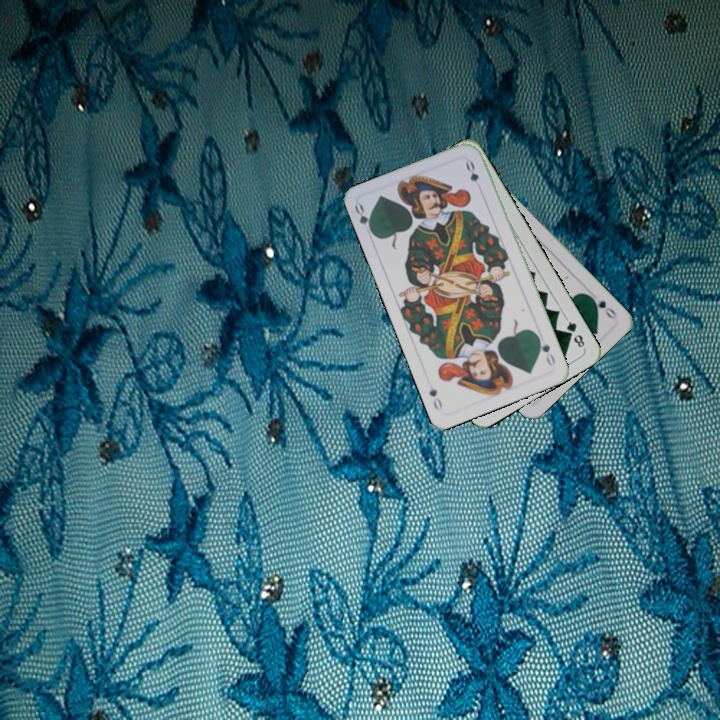G8: (562, 314, 587, 351)
GO: (350, 199, 377, 238), (585, 292, 619, 322), (533, 332, 558, 369)
